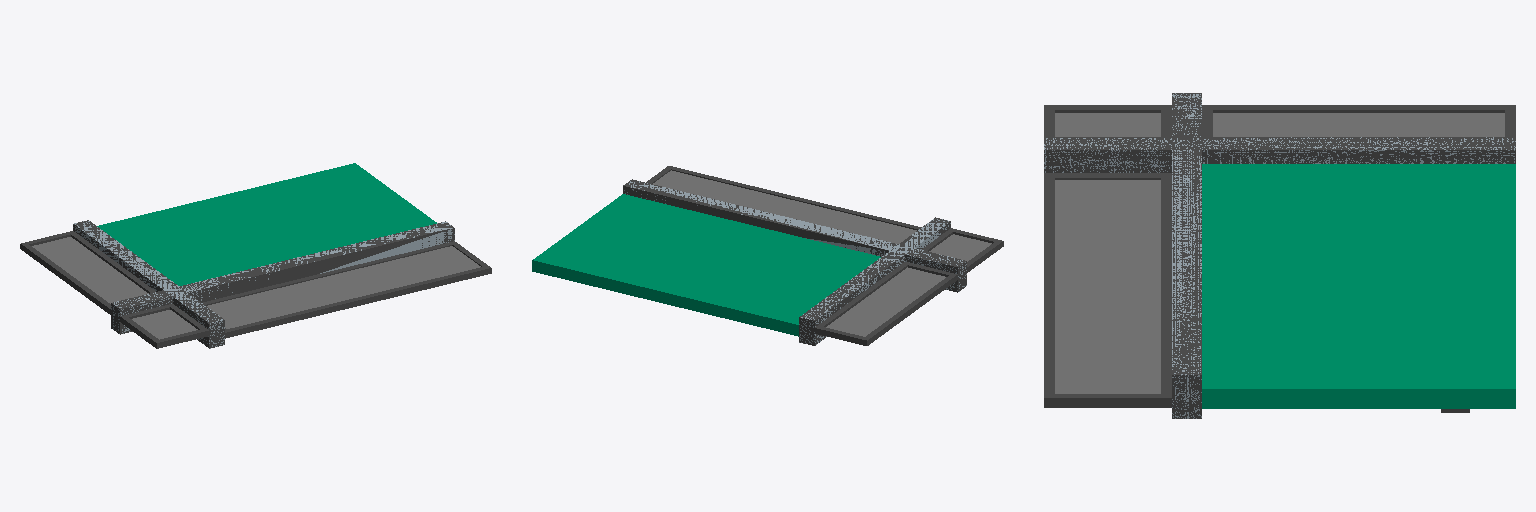
robot.urdf — right-pull-door:
<?xml version="1.0" ?>
<robot name="right-pull-door">
	<link name="base"/>
	<link name="link_0">
		<visual name="out-frame">
			<origin xyz="0 0 0"/>
			<geometry>
				<mesh filename="texture_dae/frame.dae" scale="0.5842804225272118 0.5842804225272118 0.5842804225272118"/>
			</geometry>
		</visual>
		<collision>
			<origin xyz="0 0 0"/>
			<geometry>
				<mesh filename="texture_dae/frame.dae" scale="0.5842804225272118 0.5842804225272118 0.5842804225272118"/>
			</geometry>
		</collision>
	</link>
	<joint name="joint_0" type="fixed">
		<origin rpy="1.570796326794897 0 -1.570796326794897" xyz="0 0 0"/>
		<child link="link_0"/>
		<parent link="base"/>
	</joint>
	<link name="link_1">
		<visual name="surf-board">
			<origin xyz="0.41584500126917034 -0.5285524590076831 0"/>
			<geometry>
				<mesh filename="texture_dae/board.dae" scale="0.5842804225272118 0.5842804225272118 0.5842804225272118"/>
			</geometry>
		</visual>
		<collision>
			<origin xyz="0.41584500126917034 -0.5285524590076831 0"/>
			<geometry>
				<mesh filename="texture_dae/board.dae" scale="0.5842804225272118 0.5842804225272118 0.5842804225272118"/>
			</geometry>
		</collision>
	</link>
	<joint name="joint_1" type="revolute">
		<origin xyz="-0.41584500126917034 0.5285524590076831 0"/>
		<axis xyz="0 -1 0"/>
		<child link="link_1"/>
		<parent link="link_0"/>
		<limit lower="0" upper="1.5079644737231006"/>
	</joint>
	<link name="link_2">
		<visual name="handle">
			<origin xyz="0 0 0"/>
			<geometry>
				<mesh filename="texture_dae/9960017-handle-right.dae" scale="1.3816250201590838 1.3816250201590838 1.3816250201590838"/>
			</geometry>
		</visual>
		<collision>
			<origin xyz="0 0 0"/>
			<geometry>
				<mesh filename="texture_dae/9960017-handle-right.dae" scale="1.3816250201590838 1.3816250201590838 1.3816250201590838"/>
			</geometry>
		</collision>
	</link>
	<joint name="joint_2" type="revolute">
		<origin xyz="0 0 0"/>
		<child link="link_2"/>
		<parent link="link_3"/>
		<axis xyz="0 0 1"/>
		<limit lower="0" upper="1.5079644737231006"/>
	</joint>
	<link name="link_3">
		<visual name="lock">
			<origin xyz="0 0 0"/>
			<geometry>
				<mesh filename="texture_dae/9960017-lock-right.dae" scale="1.3816250201590838 1.3816250201590838 1.3816250201590838"/>
			</geometry>
		</visual>
		<collision>
			<origin xyz="0 0 0"/>
			<geometry>
				<mesh filename="texture_dae/9960017-lock-right.dae" scale="1.3816250201590838 1.3816250201590838 1.3816250201590838"/>
			</geometry>
		</collision>
	</link>
	<joint name="joint_3" type="fixed">
		<origin xyz="0.7556548389621719 -0.619801369463197 0.028906386734450045"/>
		<child link="link_3"/>
		<parent link="link_1"/>
	</joint>
</robot>

--- Render facts (derived) ---
Views: 3 orthographic renders of the robot side by side, from view 1: azimuth 30°, elevation 25°; view 2: azimuth 150°, elevation 25°; view 3: azimuth 270°, elevation 25°.
Robot: right-pull-door — 5 links, 4 joints (2 revolute, 2 fixed); root link base; default pose: all joints at 0.
Visible links, largest first — view 1: link_0, link_1; view 2: link_1, link_0; view 3: link_1, link_0.
Boxes of the visible links, <box> form: link_0: <box>20,220,491,348</box>; link_1: <box>97,163,436,285</box>; link_1: <box>532,194,880,336</box>; link_0: <box>623,166,1003,345</box>; link_1: <box>1202,164,1515,412</box>; link_0: <box>1044,93,1515,418</box>.
Bounding box of the posed robot: 1.78 × 1.26 × 0.2353 m (x, y, z).
Meshes: 4 distinct files referenced, 4 mesh visuals loaded (4 Collada DAE).
